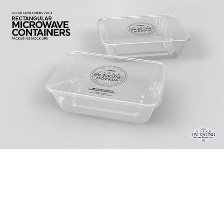plastic_box: (39, 45, 171, 128), (90, 8, 194, 66)
